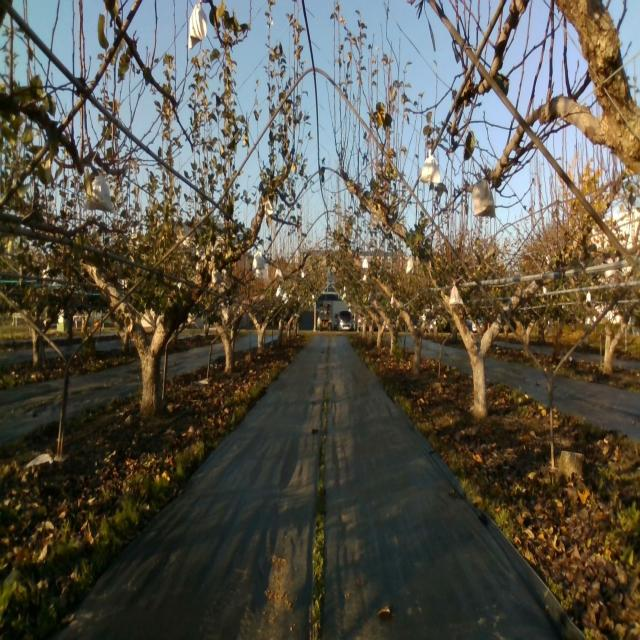pearbags: (82, 166, 115, 215), (186, 0, 208, 51), (472, 178, 496, 218), (419, 154, 441, 183), (251, 248, 265, 273), (263, 196, 275, 223), (448, 286, 463, 304), (406, 254, 418, 275), (210, 266, 221, 288)
